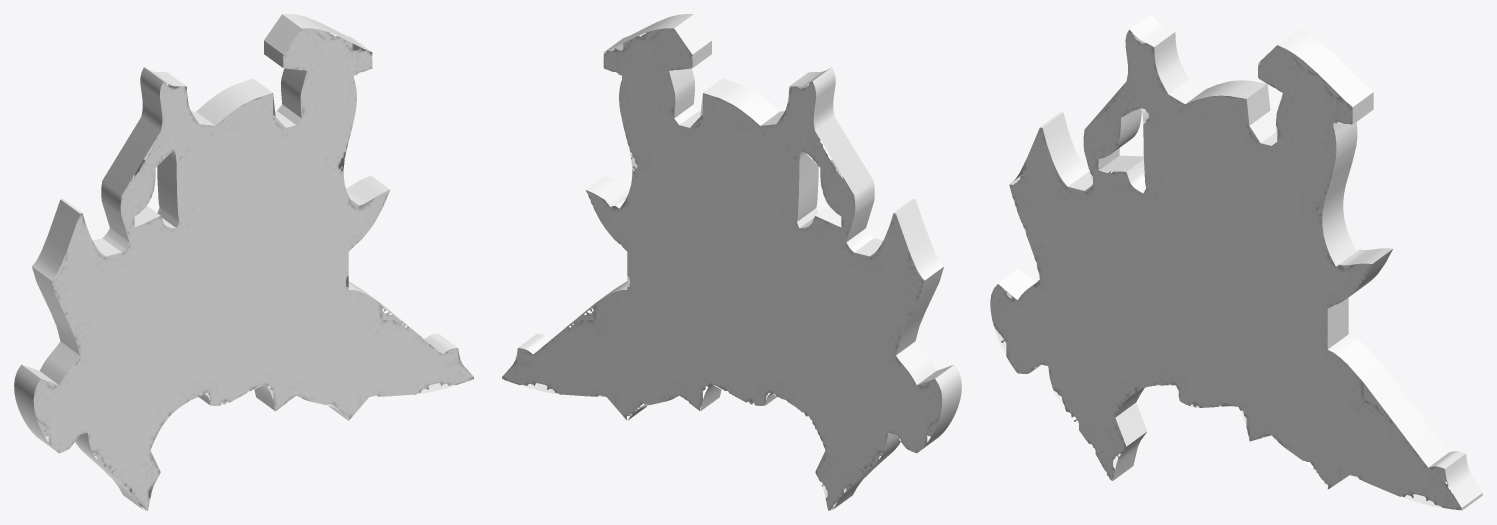
File: Lombardia.obj
3 views of the same model, side by side, from view 1: azimuth 30°, elevation 25°; view 2: azimuth 150°, elevation 25°; view 3: azimuth 330°, elevation 25° (orthographic). The views are drawn at different scales.
Bounding box in the file's own units: 169 × 163 × 13.
Materials: 3 (3 with a texture image).
